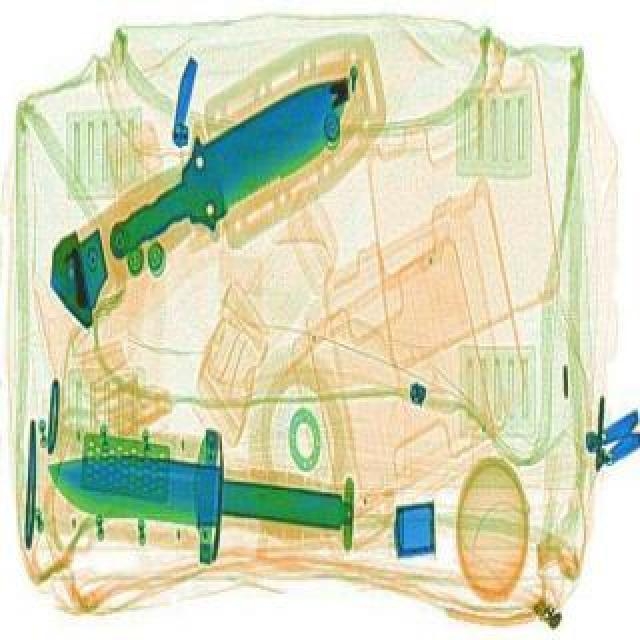knife: (76, 40, 380, 282), (36, 412, 356, 576)
